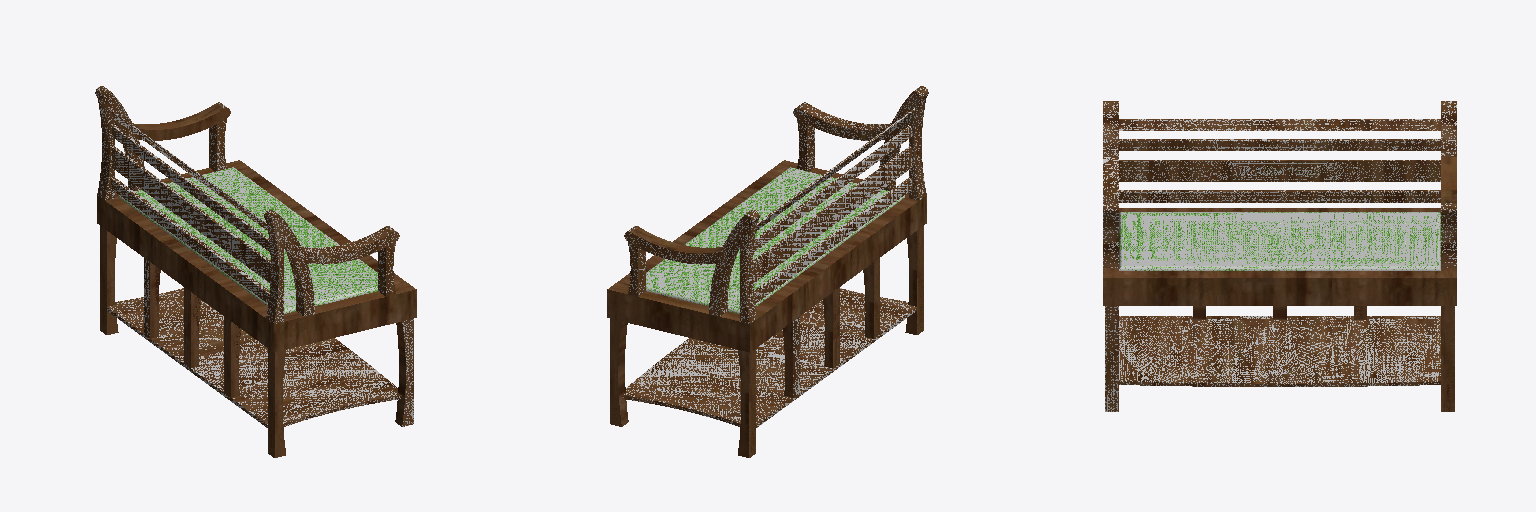
The picture shows the model from 3 angles: view 1: azimuth 30°, elevation 25°; view 2: azimuth 150°, elevation 25°; view 3: azimuth 270°, elevation 25°; orthographic projection.
Parts seen in each view (by area): view 1: mesh66_mesh66-geometry, mesh67_mesh67-geometry, mesh1.001_mesh1-geometry, mesh21.001_mesh21-geometry, mesh60.001_mesh60-geometry, mesh19.001_mesh19-geometry, mesh17.001_mesh17-geometry, mesh19.003_mesh19-geometry; view 2: mesh66_mesh66-geometry, mesh1.001_mesh1-geometry, mesh67_mesh67-geometry, mesh21.001_mesh21-geometry, mesh60.001_mesh60-geometry, mesh19.003_mesh19-geometry, mesh19.002_mesh19-geometry, mesh19.001_mesh19-geometry; view 3: mesh66_mesh66-geometry, mesh67_mesh67-geometry, mesh21.001_mesh21-geometry, mesh1.001_mesh1-geometry, mesh60.001_mesh60-geometry, mesh19.002_mesh19-geometry, mesh17.001_mesh17-geometry.
Boxes of the visible parts, <box> form: mesh66_mesh66-geometry: <box>107,258,401,427</box>; mesh67_mesh67-geometry: <box>108,108,399,323</box>; mesh1.001_mesh1-geometry: <box>97,160,416,352</box>; mesh21.001_mesh21-geometry: <box>119,167,377,313</box>; mesh60.001_mesh60-geometry: <box>95,86,230,200</box>; mesh19.001_mesh19-geometry: <box>268,349,285,457</box>; mesh17.001_mesh17-geometry: <box>395,319,413,426</box>; mesh19.003_mesh19-geometry: <box>100,226,118,334</box>; mesh66_mesh66-geometry: <box>622,258,916,427</box>; mesh1.001_mesh1-geometry: <box>607,160,926,352</box>; mesh67_mesh67-geometry: <box>753,86,928,302</box>; mesh21.001_mesh21-geometry: <box>646,167,904,313</box>; mesh60.001_mesh60-geometry: <box>624,210,759,323</box>; mesh19.003_mesh19-geometry: <box>738,349,755,457</box>; mesh19.002_mesh19-geometry: <box>610,319,628,426</box>; mesh19.001_mesh19-geometry: <box>905,226,923,334</box>; mesh66_mesh66-geometry: <box>1119,306,1440,386</box>; mesh67_mesh67-geometry: <box>1103,101,1440,267</box>; mesh21.001_mesh21-geometry: <box>1119,212,1440,270</box>; mesh1.001_mesh1-geometry: <box>1103,208,1456,305</box>; mesh60.001_mesh60-geometry: <box>1441,101,1456,267</box>; mesh19.002_mesh19-geometry: <box>1441,306,1454,411</box>; mesh17.001_mesh17-geometry: <box>1105,306,1118,411</box>.
Bounding box in the file's own units: 0.3522 × 0.5661 × 0.7453.
5 materials, 2 textured.